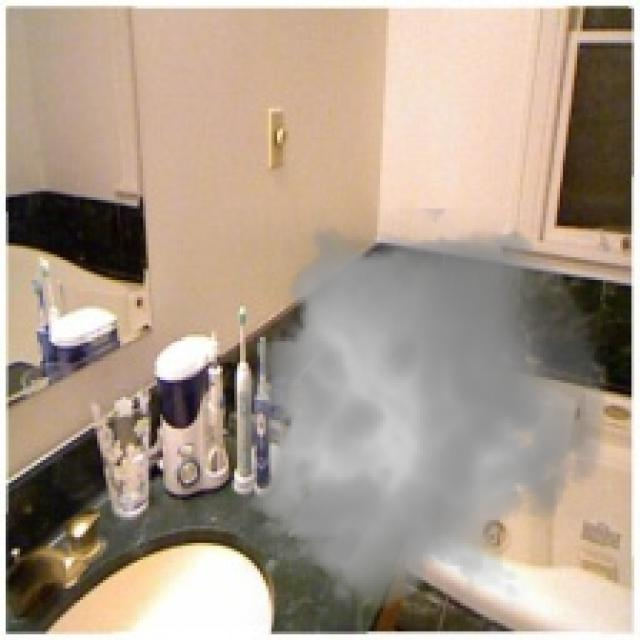smoke: (226, 208, 620, 626)
